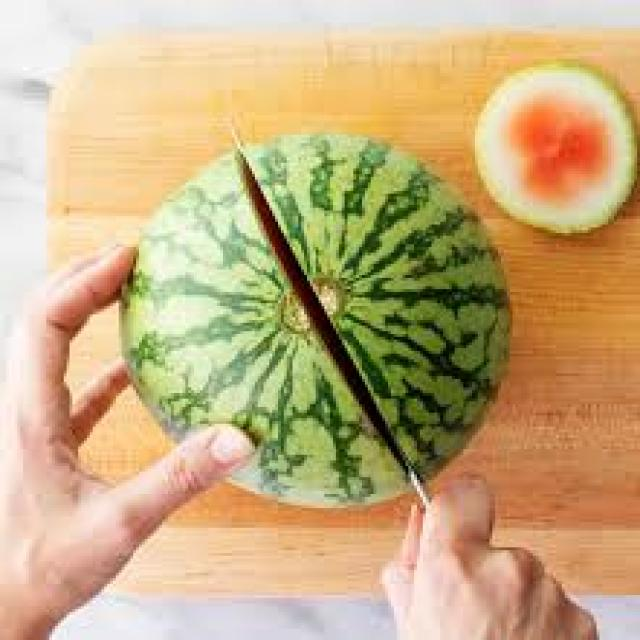watermelon: (116, 126, 512, 508), (472, 56, 637, 236)
